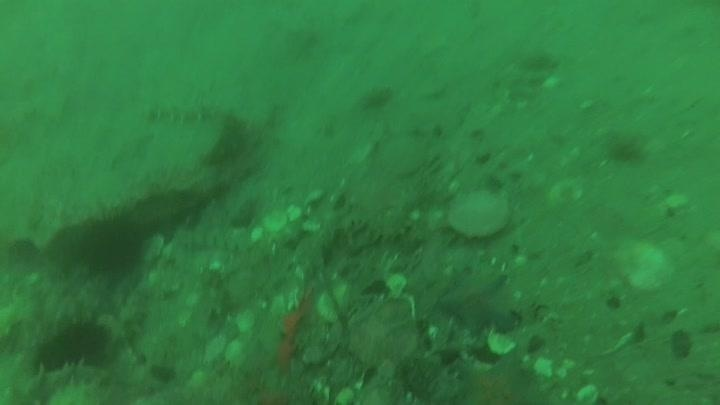echinus: (74, 211, 147, 280), (34, 315, 114, 374)
holothurian: (5, 358, 113, 404), (114, 280, 156, 346), (145, 100, 229, 133)
scallop: (346, 295, 419, 368), (610, 237, 675, 294), (447, 188, 511, 240)
starfish: (436, 265, 520, 337), (451, 354, 551, 404)
